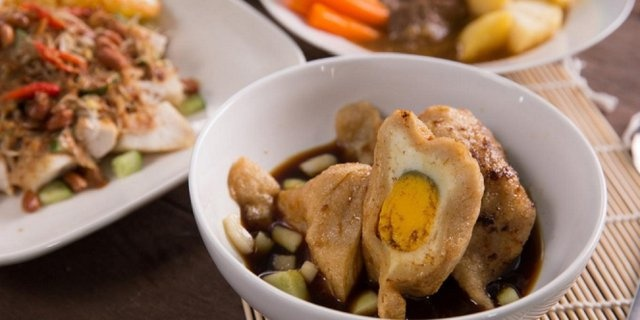pempek: (227, 100, 535, 318)
